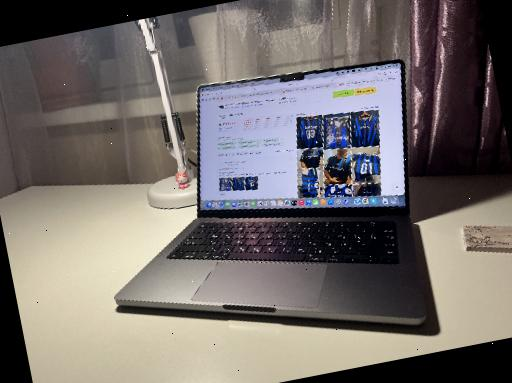aliexpress: (200, 66, 400, 203)
